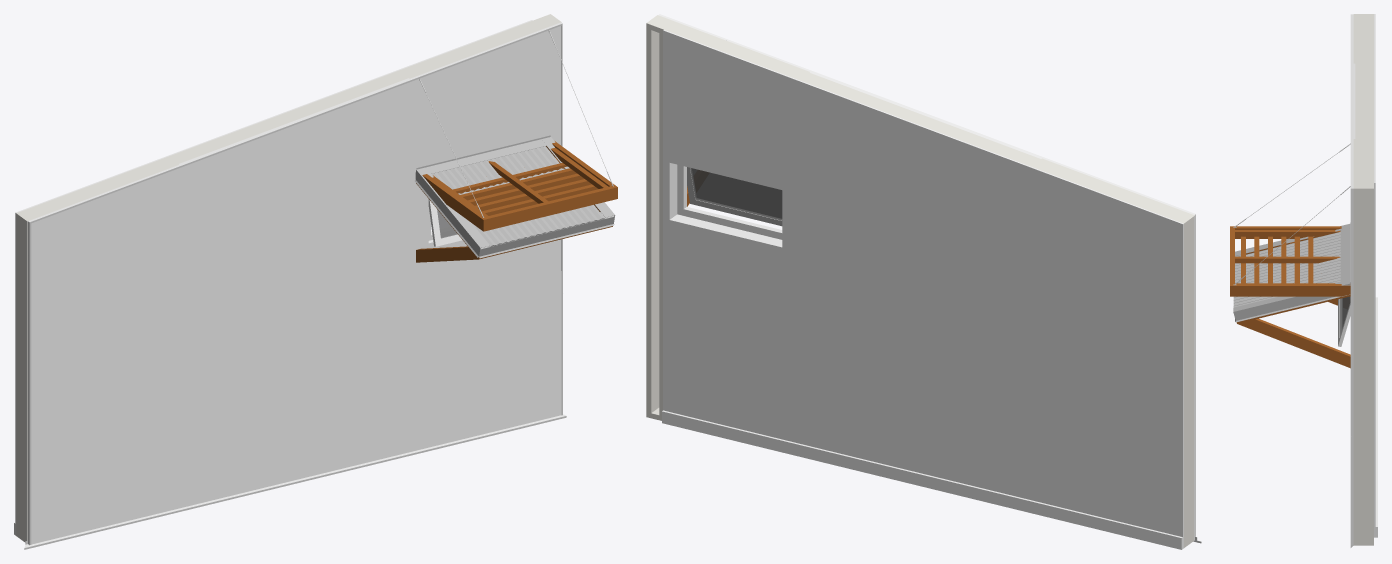
3 renders of one model, left to right at view 1: azimuth 30°, elevation 25°; view 2: azimuth 150°, elevation 25°; view 3: azimuth 270°, elevation 25°, orthographic. The views are drawn at different scales.
Parts seen in each view (by area): view 1: Mesh39 wood_texture_metal LT1C LT1C_2_1 Model, Mesh129 wood_texture2 LT2R_18C LT2R_18C1 Model, Mesh42 wood_texture LT1C LT1C_2_1 Model, Mesh45 wood_texture_metal1 LT3L LT3L1 Model, Mesh48 wood_texture1 LT3L LT3L1 Model, Mesh130 wood_texture_metal2 LT2R_18C LT2R_18C1 Model, Mesh52 framing1 lumber1 LT3L LT3L1 Model, Mesh43 framing lumber LT1C LT1C_2_1 Model, Mesh156 G_2x4_1_1 lumber4 pergola LT2R_18C LT2R_18C1 Model, Mesh71 Union trim_color1 LT3L LT3L1 Model, Mesh127 framing2 lumber2 LT2R_18C LT2R_18C1 Model, Mesh136 Roof_metal2 roof_metal awning LT2R_18C LT2R_18C1 Model (+16 smaller); view 2: Mesh40 drywall lifestyle LT1C LT1C_2_1 Model, Mesh46 drywall1 lifestyle1 LT3L LT3L1 Model, Mesh131 drywall2 lifestyle2 LT2R_18C LT2R_18C1 Model, Mesh127 framing2 lumber2 LT2R_18C LT2R_18C1 Model, Mesh52 framing1 lumber1 LT3L LT3L1 Model, Mesh41 baseboard lifestyle LT1C LT1C_2_1 Model, Mesh174 AWN3016_Glass1 glass AWN3016_1 LT2R_18C LT2R_18C1 Model, Mesh43 framing lumber LT1C LT1C_2_1 Model, Mesh175 AWN3016_Glass2 glass AWN3016_1 LT2R_18C LT2R_18C1 Model, Mesh47 baseboard1 lifestyle1 LT3L LT3L1 Model, Mesh132 baseboard2 lifestyle2 LT2R_18C LT2R_18C1 Model, Mesh176 AWN3016_Int_Frame1 window_interior AWN3016_1 LT2R_18C LT (+2 smaller); view 3: Mesh127 framing2 lumber2 LT2R_18C LT2R_18C1 Model, Mesh123 Union1 trim_color2 LT2R_18C LT2R_18C1 Model, Mesh145 G_2x4_2_4_1 lumber3 awning LT2R_18C LT2R_18C1 Model, Mesh43 framing lumber LT1C LT1C_2_1 Model, Mesh160 G_2x4_2_2 lumber4 pergola LT2R_18C LT2R_18C1 Model, Mesh138 Component_227_2 roof_metal awning LT2R_18C LT2R_18C1 Mod, Mesh128 sheathing2 lumber2 LT2R_18C LT2R_18C1 Model, Mesh134 Roof_metal1 roof_metal awning LT2R_18C LT2R_18C1 Model, Mesh139 Roof_metal3 roof_metal awning LT2R_18C LT2R_18C1 Model, Mesh52 framing1 lumber1 LT3L LT3L1 Model, Mesh136 Roof_metal2 roof_metal awning LT2R_18C LT2R_18C1 Model, Mesh131 drywall2 lifestyle2 LT2R_18C LT2R_18C1 Model (+21 smaller).
Part boxes in pixels (x1,y1,x2,y2): Mesh39 wood_texture_metal LT1C LT1C_2_1 Model: (180, 82, 410, 385); Mesh129 wood_texture2 LT2R_18C LT2R_18C1 Model: (411, 26, 561, 451); Mesh42 wood_texture LT1C LT1C_2_1 Model: (180, 82, 410, 507); Mesh45 wood_texture_metal1 LT3L LT3L1 Model: (31, 168, 180, 422); Mesh48 wood_texture1 LT3L LT3L1 Model: (31, 168, 180, 544); Mesh130 wood_texture_metal2 LT2R_18C LT2R_18C1 Model: (411, 27, 561, 329); Mesh52 framing1 lumber1 LT3L LT3L1 Model: (16, 156, 177, 542); Mesh43 framing lumber LT1C LT1C_2_1 Model: (168, 70, 408, 163); Mesh156 G_2x4_1_1 lumber4 pergola LT2R_18C LT2R_18C1 Model: (480, 185, 617, 231); Mesh71 Union trim_color1 LT3L LT3L1 Model: (28, 165, 180, 545); Mesh127 framing2 lumber2 LT2R_18C LT2R_18C1 Model: (399, 14, 560, 77); Mesh136 Roof_metal2 roof_metal awning LT2R_18C LT2R_18C1 Model: (507, 146, 604, 227); Mesh40 drywall lifestyle LT1C LT1C_2_1 Model: (798, 80, 1030, 499); Mesh46 drywall1 lifestyle1 LT3L LT3L1 Model: (1030, 166, 1183, 548); Mesh131 drywall2 lifestyle2 LT2R_18C LT2R_18C1 Model: (663, 30, 798, 443); Mesh127 framing2 lumber2 LT2R_18C LT2R_18C1 Model: (646, 15, 808, 420); Mesh52 framing1 lumber1 LT3L LT3L1 Model: (1031, 159, 1193, 547); Mesh41 baseboard lifestyle LT1C LT1C_2_1 Model: (797, 443, 1029, 512); Mesh174 AWN3016_Glass1 glass AWN3016_1 LT2R_18C LT2R_18C1 Model: (690, 168, 782, 220); Mesh43 framing lumber LT1C LT1C_2_1 Model: (799, 72, 1040, 166); Mesh175 AWN3016_Glass2 glass AWN3016_1 LT2R_18C LT2R_18C1 Model: (692, 169, 781, 217); Mesh47 baseboard1 lifestyle1 LT3L LT3L1 Model: (1028, 500, 1182, 549); Mesh132 baseboard2 lifestyle2 LT2R_18C LT2R_18C1 Model: (662, 410, 797, 455); Mesh176 AWN3016_Int_Frame1 window_interior AWN3016_1 LT2R_18C LT: (677, 164, 782, 239); Mesh127 framing2 lumber2 LT2R_18C LT2R_18C1 Model: (1355, 139, 1373, 545); Mesh123 Union1 trim_color2 LT2R_18C LT2R_18C1 Model: (1350, 139, 1353, 545); Mesh145 G_2x4_2_4_1 lumber3 awning LT2R_18C LT2R_18C1 Model: (1237, 318, 1350, 368); Mesh43 framing lumber LT1C LT1C_2_1 Model: (1355, 63, 1373, 138); Mesh160 G_2x4_2_2 lumber4 pergola LT2R_18C LT2R_18C1 Model: (1235, 284, 1345, 296); Mesh138 Component_227_2 roof_metal awning LT2R_18C LT2R_18C1 Mod: (1233, 279, 1350, 322); Mesh128 sheathing2 lumber2 LT2R_18C LT2R_18C1 Model: (1353, 139, 1355, 545); Mesh134 Roof_metal1 roof_metal awning LT2R_18C LT2R_18C1 Model: (1235, 231, 1340, 274); Mesh139 Roof_metal3 roof_metal awning LT2R_18C LT2R_18C1 Model: (1235, 249, 1340, 283); Mesh52 framing1 lumber1 LT3L LT3L1 Model: (1355, 14, 1373, 63); Mesh136 Roof_metal2 roof_metal awning LT2R_18C LT2R_18C1 Model: (1233, 266, 1340, 307); Mesh131 drywall2 lifestyle2 LT2R_18C LT2R_18C1 Model: (1374, 139, 1375, 537).
Bounding box in the file's own units: 169 × 118 × 43.95.
